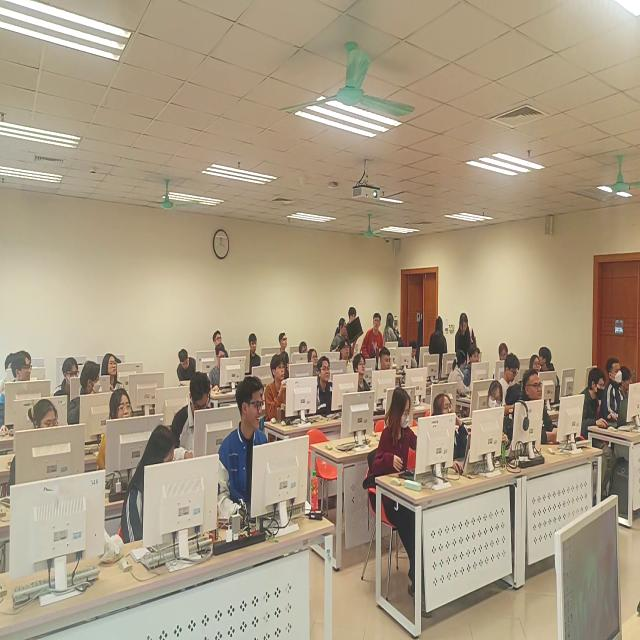raise_head: (219, 381, 283, 524), (98, 389, 146, 477), (515, 372, 565, 450), (432, 391, 473, 477), (265, 357, 303, 429), (72, 364, 107, 432), (313, 357, 339, 420), (102, 355, 125, 395), (354, 352, 374, 395), (245, 336, 264, 375), (275, 333, 295, 359), (530, 353, 544, 382), (340, 338, 353, 369), (307, 347, 320, 372), (215, 329, 226, 350)
stand: (428, 315, 449, 381), (455, 313, 476, 378), (364, 313, 387, 362), (384, 309, 404, 357)
using_computer: (125, 424, 193, 550), (373, 386, 433, 518), (10, 399, 72, 498), (171, 376, 224, 470), (578, 370, 623, 468), (604, 358, 636, 429), (206, 346, 243, 398), (178, 346, 211, 395), (54, 358, 82, 412), (380, 347, 416, 389), (468, 347, 494, 388), (497, 345, 514, 377)
